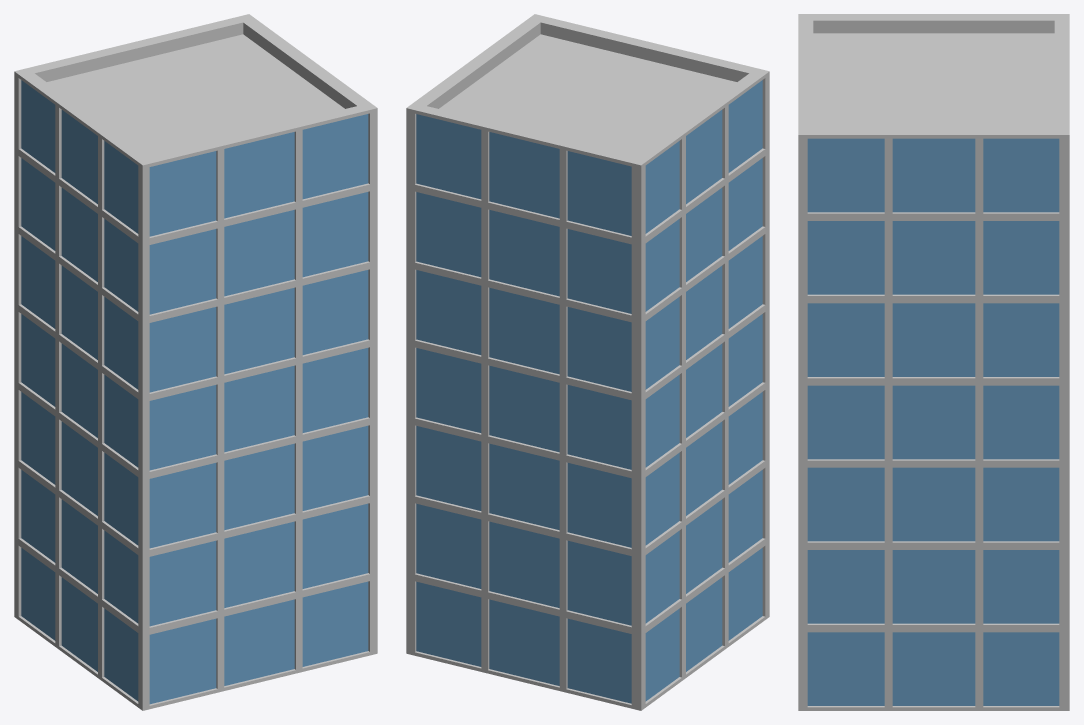
File: building8.fbx
3 views of the same model, side by side, from view 1: azimuth 30°, elevation 25°; view 2: azimuth 150°, elevation 25°; view 3: azimuth 270°, elevation 25° (orthographic). The views are drawn at different scales.
Visible parts, largest first — view 1: polySurface16; view 2: polySurface16; view 3: polySurface16.
Boxes of the visible parts, x1=… form: polySurface16: x1=14, y1=14, x2=377, y2=710; polySurface16: x1=406, y1=14, x2=769, y2=710; polySurface16: x1=798, y1=14, x2=1069, y2=710.
Bounding box in the file's own units: 52.5 × 116 × 49.76.
